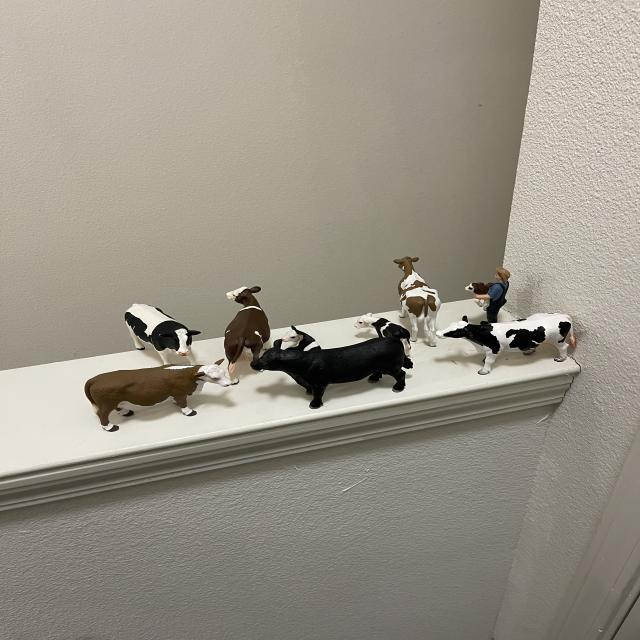cow: (82, 349, 238, 436), (249, 332, 415, 413), (439, 311, 577, 377), (112, 294, 202, 373), (393, 253, 445, 350), (223, 285, 271, 381), (352, 308, 417, 355), (277, 324, 316, 362), (465, 280, 490, 296)
person: (464, 261, 519, 326)
